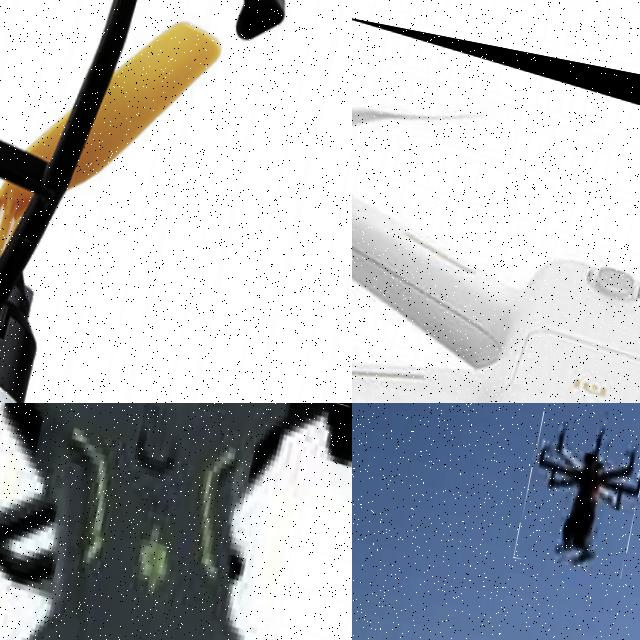drone: (0, 0, 352, 403), (352, 16, 640, 403), (0, 403, 352, 640), (514, 403, 640, 579)
